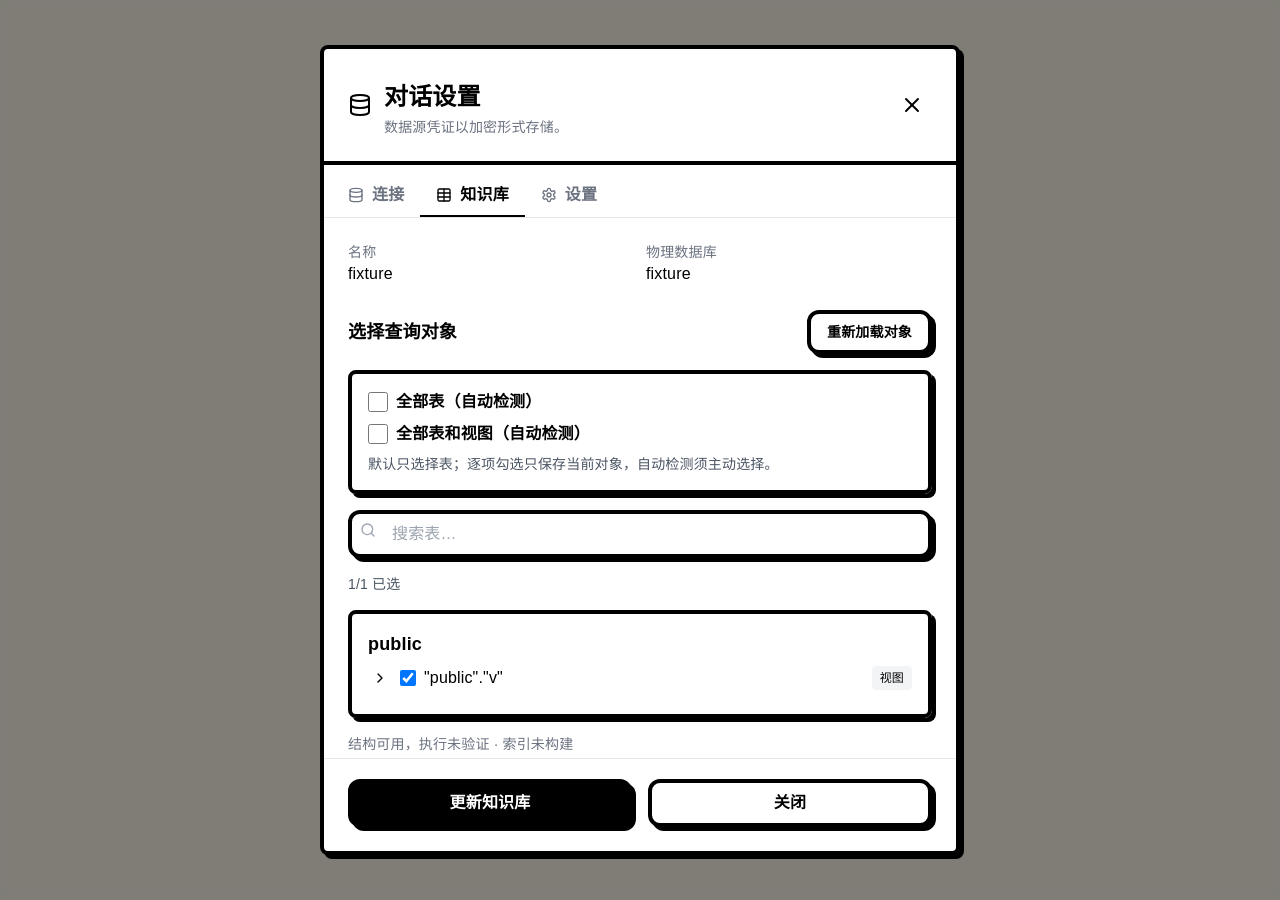
it: row status unknown preserves known/estimated/legacy semantics
Expected: the checkbox labelled "\"public\".\"v\"" is shown, [400,670,416,686]
Click the button named "展开 \"public\".\"v\"" at (380, 678), box [368,666,392,690]
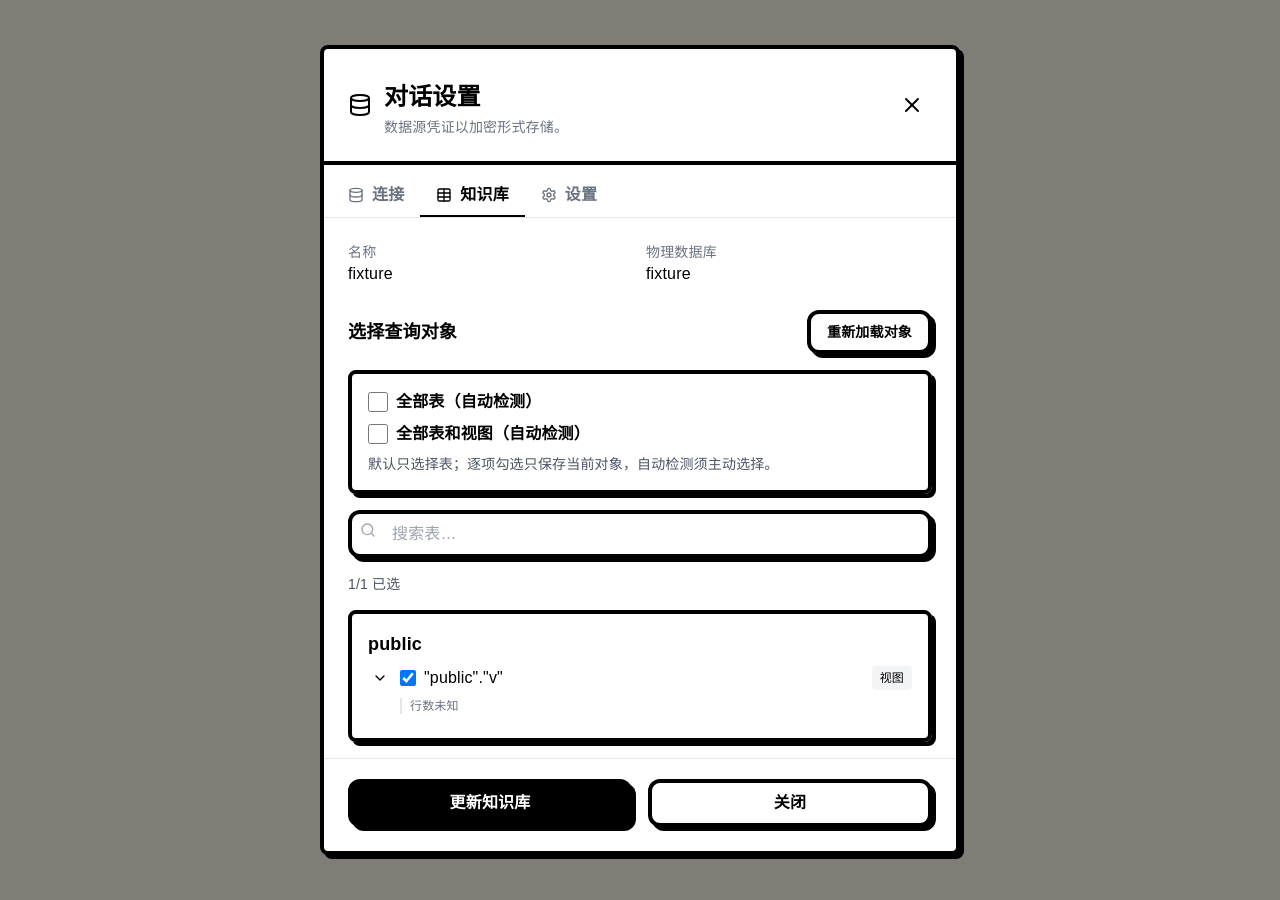
Result: the text "行数未知" is shown at [410,699,459,713]
